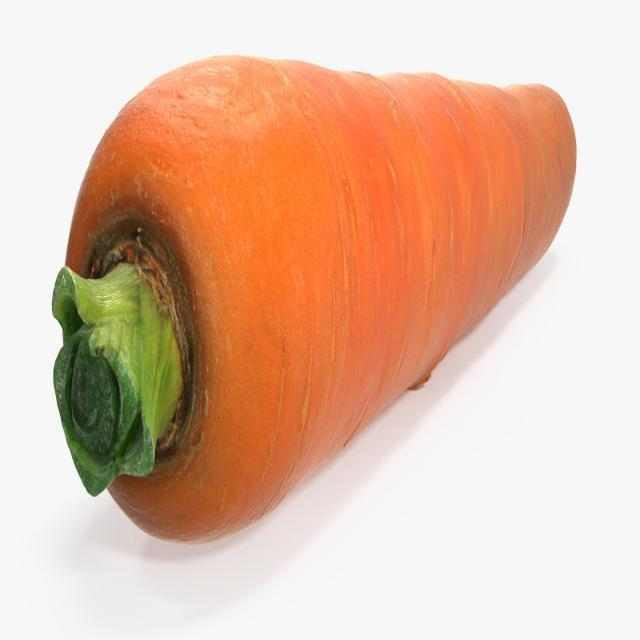carrot: (47, 53, 584, 553)
